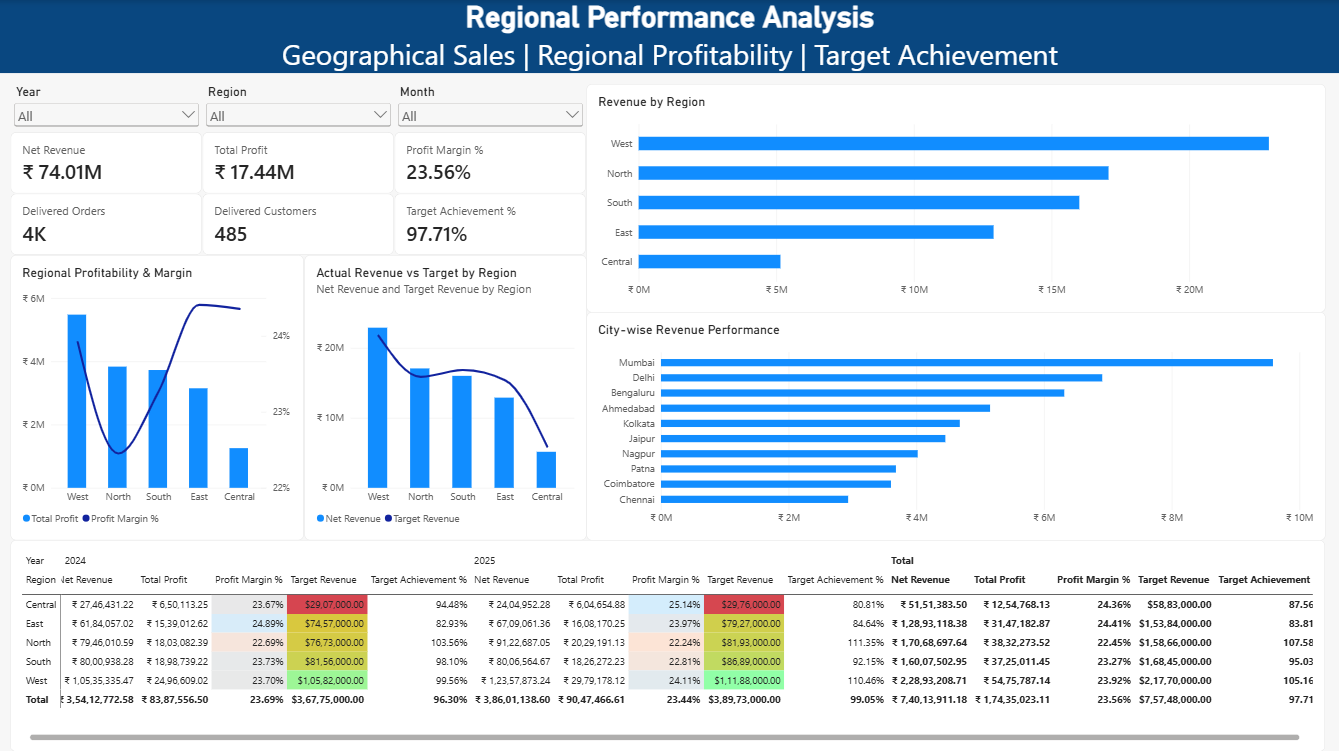

The dashboard page shown, as its layout file describes it:
{"tool":"powerbi","page":{"name":"Regional Performance Analysis","canvas":[1920,1080],"ordinal":3},"visuals":[{"type":"textbox","title":"Regional Performance Analysis","box":[0,0,1919.3,104.5],"z":0},{"type":"slicer","fields":{"Values":["DimMonth.Year"]},"box":[15,120.3,275,68.8],"z":1000},{"type":"slicer","fields":{"Values":["DimRegion.Region"]},"box":[290.1,120.3,275,68.8],"z":2000},{"type":"slicer","fields":{"Values":["DimMonth.Month"]},"box":[565.1,120.3,275,68.8],"z":3000},{"type":"cardVisual","fields":{"Data":["_Measures.Net Revenue"]},"box":[15.9,188.5,274.8,88.6],"z":4000},{"type":"cardVisual","fields":{"Data":["_Measures.Total Profit"]},"box":[290.7,188.5,274.8,88.6],"z":5000},{"type":"cardVisual","fields":{"Data":["_Measures.Profit Margin %"]},"box":[565.6,188.5,274.8,88.6],"z":6000},{"type":"cardVisual","fields":{"Data":["_Measures.Delivered Orders"]},"box":[15.9,277.1,274.8,88.6],"z":7000},{"type":"cardVisual","fields":{"Data":["_Measures.Delivered Customers"]},"box":[290.7,277.1,274.8,88.6],"z":8000},{"type":"cardVisual","fields":{"Data":["_Measures.Target Achievement %"]},"box":[565.6,277.1,274.8,88.6],"z":9000},{"type":"clusteredBarChart","title":"Revenue by Region","fields":{"Category":["DimRegion.Region"],"Y":["_Measures.Net Revenue"]},"box":[840.4,120.4,1058.4,327.1],"z":10000},{"type":"lineClusteredColumnComboChart","title":"Regional Profitability & Margin","fields":{"Category":["DimRegion.Region"],"Y":["_Measures.Total Profit"],"Y2":["_Measures.Profit Margin %"]},"box":[15.9,365.7,420.2,408.8],"z":11000},{"type":"clusteredBarChart","title":"City-wise Revenue Performance","fields":{"Category":["customers.city"],"Y":["_Measures.Net Revenue"]},"box":[840.4,447.4,1058.4,327.1],"z":12000},{"type":"lineClusteredColumnComboChart","title":"Actual Revenue vs Target by Region","fields":{"Category":["DimRegion.Region"],"Y":["_Measures.Net Revenue"],"Y2":["_Measures.Target Revenue"]},"box":[436.1,365.7,404.3,408.8],"z":13000},{"type":"pivotTable","fields":{"Columns":["DimMonth.Year"],"Rows":["DimRegion.Region"],"Values":["_Measures.Net Revenue","_Measures.Total Profit","_Measures.Profit Margin %","_Measures.Target Revenue","_Measures.Target Achievement %"]},"box":[15.9,774.5,1882.9,304.4],"z":14000}]}

Visuals, with their boxes in screenshot pixels (x1, y1, x2, y2), scaled from the page's 1920x1080 canvas onto the 1339x751 screenshot:
"Regional Performance Analysis" textbox: l=0, t=0, r=1338, b=73
slicer - DimMonth.Year: l=10, t=84, r=202, b=131
slicer - DimRegion.Region: l=202, t=84, r=394, b=131
slicer - DimMonth.Month: l=394, t=84, r=586, b=131
cardVisual - _Measures.Net Revenue: l=11, t=131, r=203, b=193
cardVisual - _Measures.Total Profit: l=203, t=131, r=394, b=193
cardVisual - _Measures.Profit Margin %: l=394, t=131, r=586, b=193
cardVisual - _Measures.Delivered Orders: l=11, t=193, r=203, b=254
cardVisual - _Measures.Delivered Customers: l=203, t=193, r=394, b=254
cardVisual - _Measures.Target Achievement %: l=394, t=193, r=586, b=254
"Revenue by Region" clusteredBarChart: l=586, t=84, r=1324, b=311
"Regional Profitability & Margin" lineClusteredColumnComboChart: l=11, t=254, r=304, b=539
"City-wise Revenue Performance" clusteredBarChart: l=586, t=311, r=1324, b=539
"Actual Revenue vs Target by Region" lineClusteredColumnComboChart: l=304, t=254, r=586, b=539
pivotTable - DimMonth.Year x DimRegion.Region: l=11, t=539, r=1324, b=750
